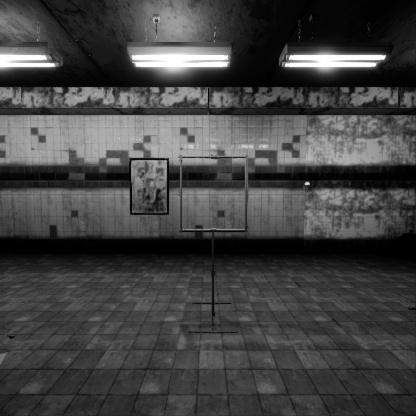gate: (179, 183, 254, 260)
